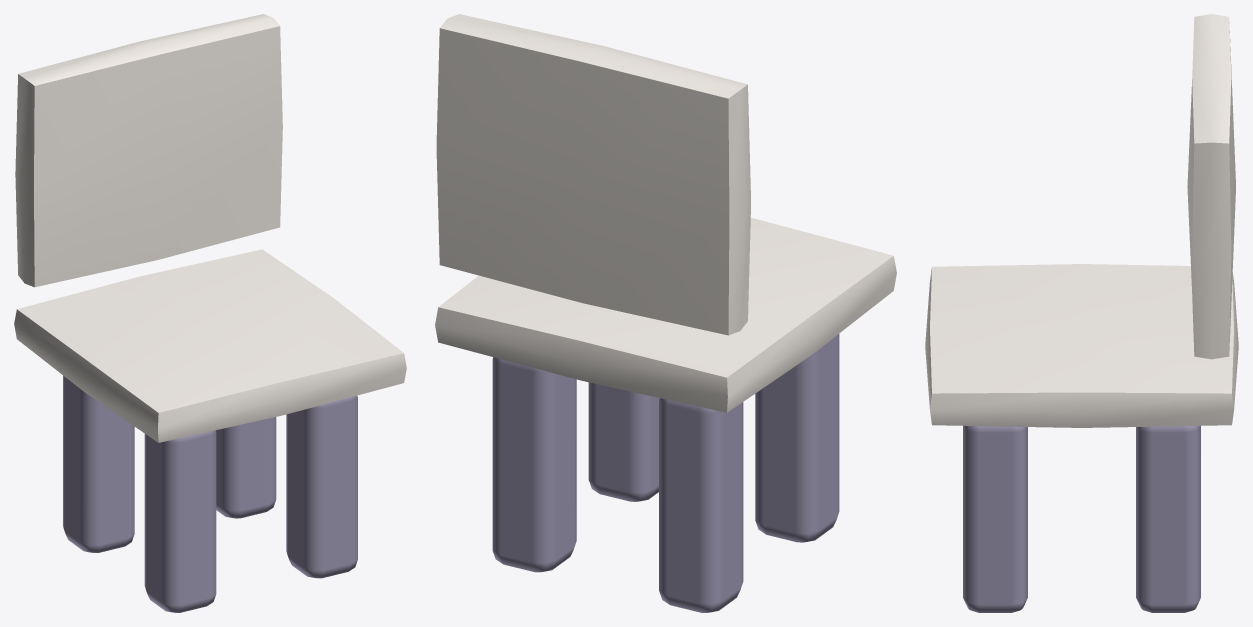
Rendered from folding-chair.glb.
The picture shows the model from 3 angles, left to right: view 1: azimuth 30°, elevation 25°; view 2: azimuth 150°, elevation 25°; view 3: azimuth 270°, elevation 25°; orthographic projection. The views are drawn at different scales.
Visible parts, largest first — view 1: part (×6); view 2: part (×6); view 3: part (×4).
Part boxes in pixels (x1,y1,x2,y2): part (×6): (14,14,406,612); part (×6): (435,14,896,612); part (×4): (925,14,1238,612).
Size of the model in its own units: 0.58 by 1.01 by 0.58.
1 material, 1 textured.
